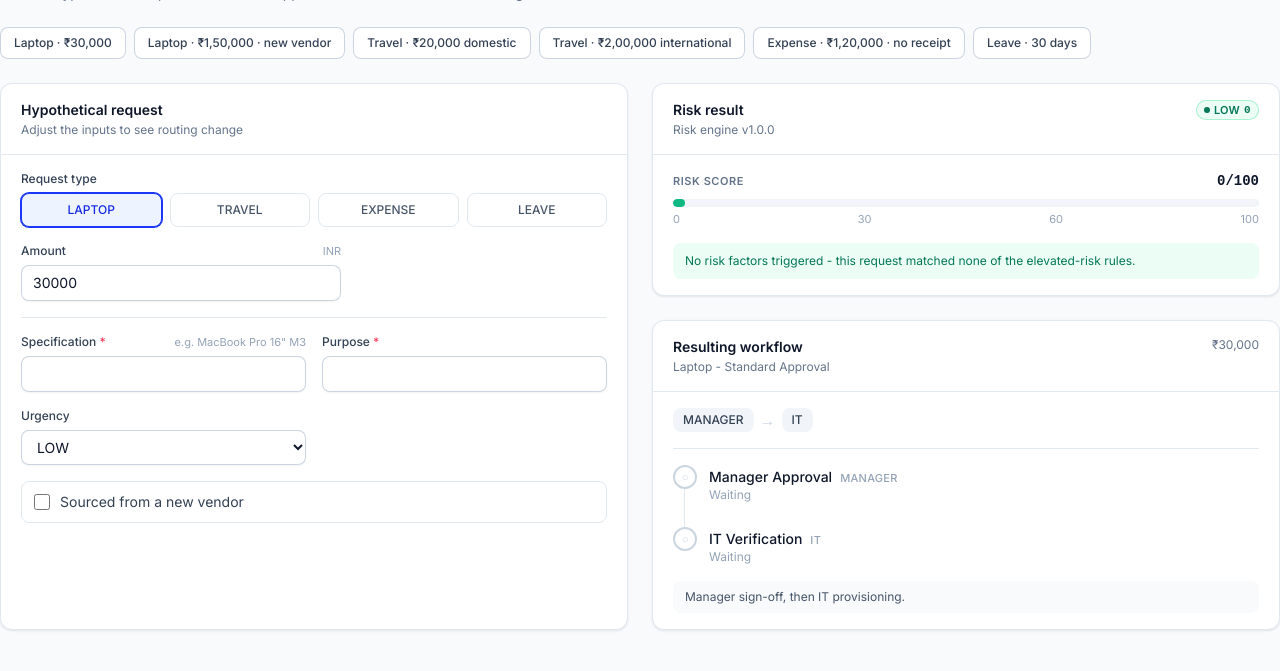
it: Workflow simulator › produces a different result when the inputs change
Expected: the text "LOW" is shown, [1214,103,1240,117]
Replace the text in the number field labelled "Amount INR" with "200000" at {"x": 181, "y": 283}, box [21,265,341,301]
(page scrolled)
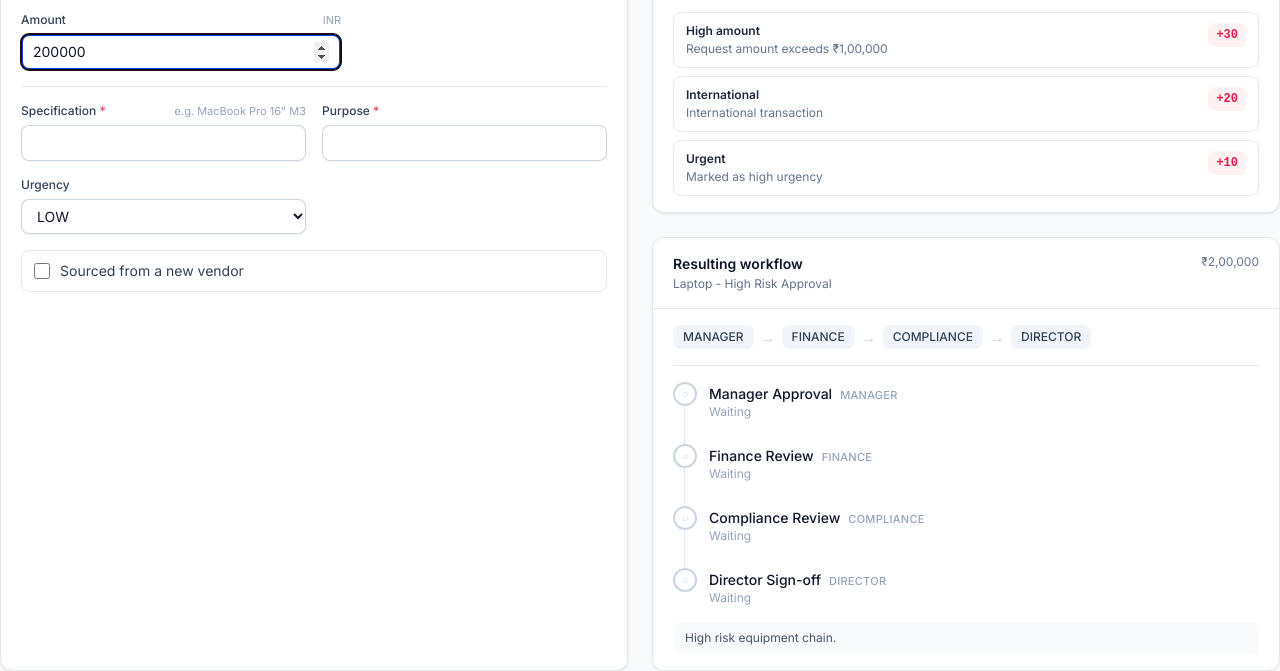
Result: the text "Director Sign-off" is shown at [709,570,821,590]
